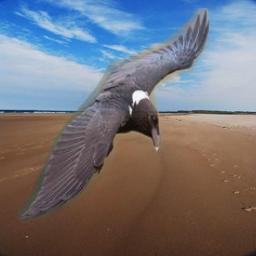Crow: (17, 8, 209, 224)
